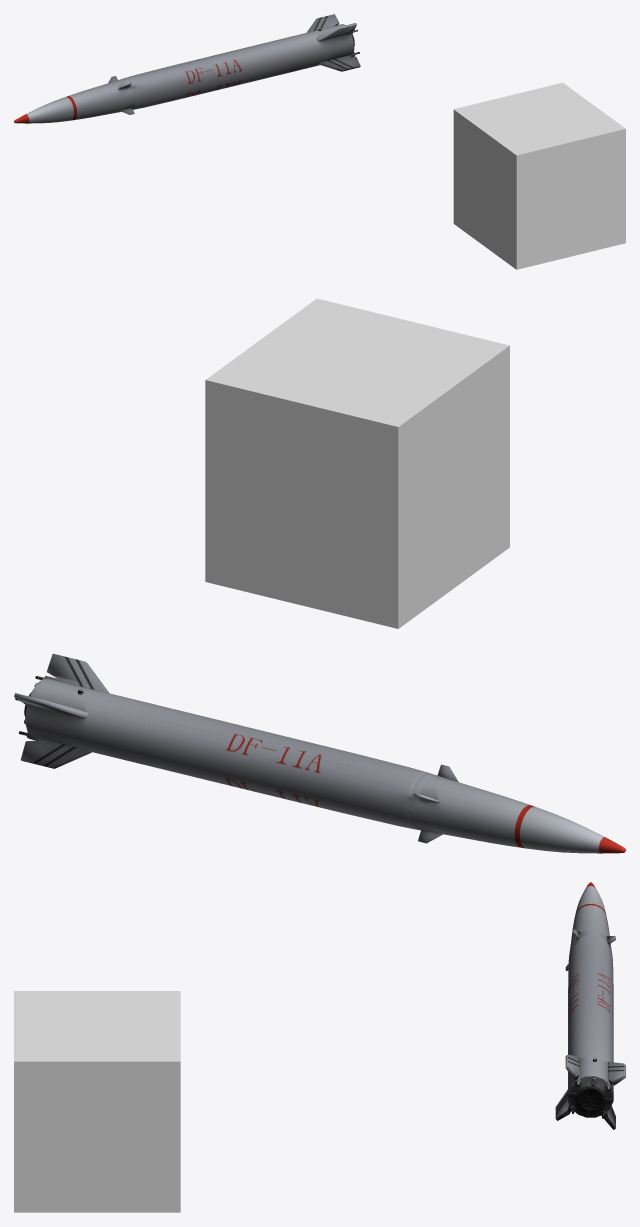
File: daodan.gltf
3 views of the same model, one above another, from view 1: azimuth 30°, elevation 25°; view 2: azimuth 150°, elevation 25°; view 3: azimuth 270°, elevation 25° (orthographic). The views are drawn at different scales.
Parts seen in each view (by area): view 1: Cube, DF-11A; view 2: Cube, DF-11A; view 3: Cube, DF-11A.
Part boxes in pixels (x1,y1,x2,y2): Cube: [453, 82, 625, 269]; DF-11A: [14, 14, 360, 123]; Cube: [205, 298, 509, 628]; DF-11A: [14, 653, 625, 853]; Cube: [14, 991, 180, 1212]; DF-11A: [555, 882, 625, 1129].
Bounding box in the file's own units: 7.19 × 2 × 7.34.
2 materials, 1 textured.
